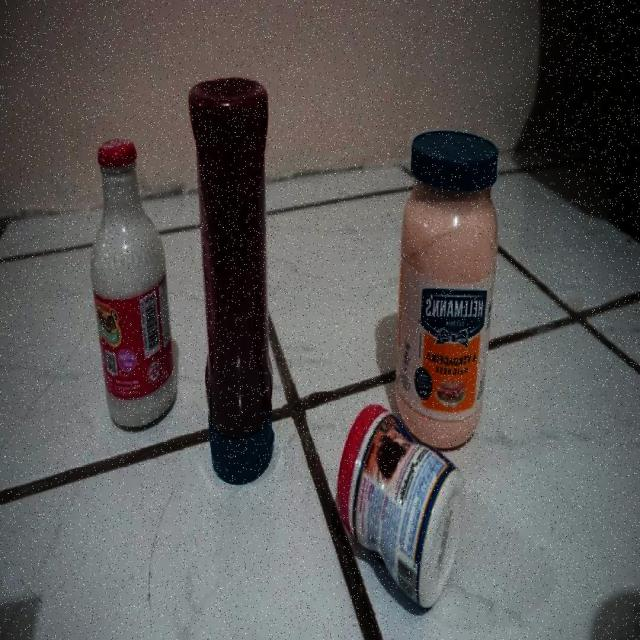CoconutMilk: (92, 134, 176, 431)
Ketchup: (202, 78, 274, 487)
Mayonnaise: (395, 123, 501, 410)
Yeast: (320, 407, 457, 616)
